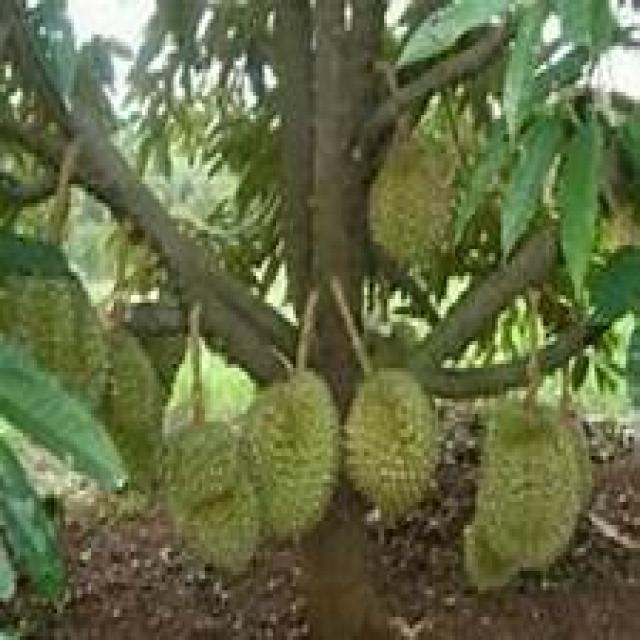immature: (470, 392, 594, 578), (241, 371, 339, 546), (340, 357, 438, 518)
